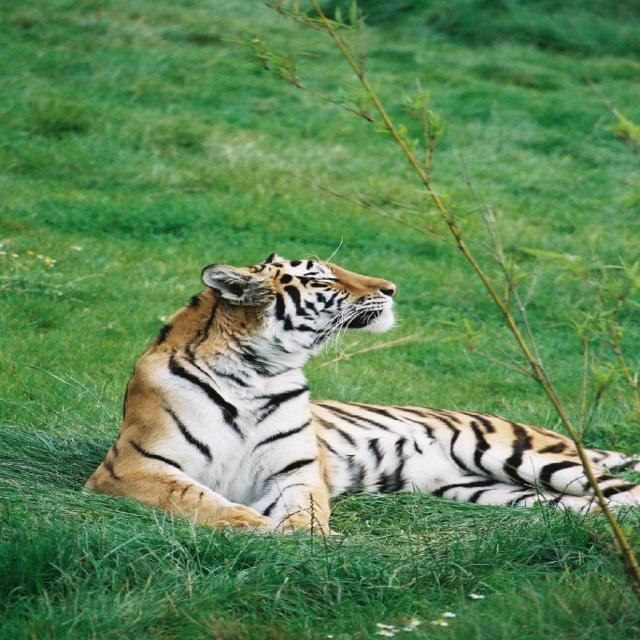Tiger: (80, 236, 640, 534)
